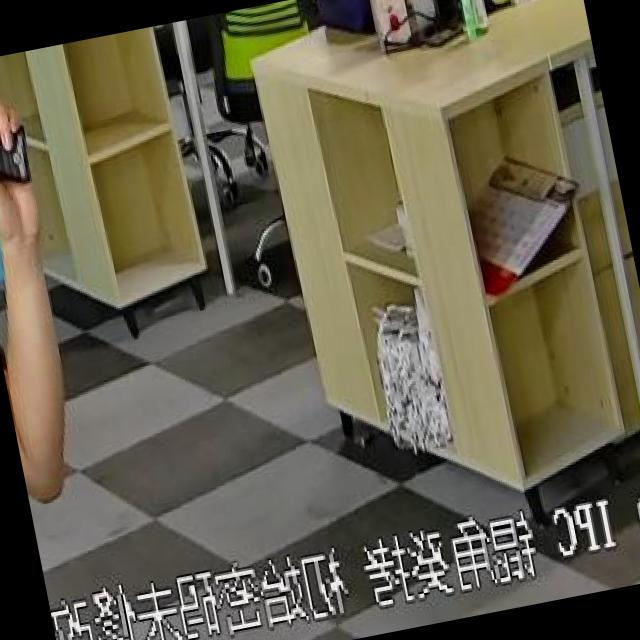Guns: (0, 47, 81, 244)
